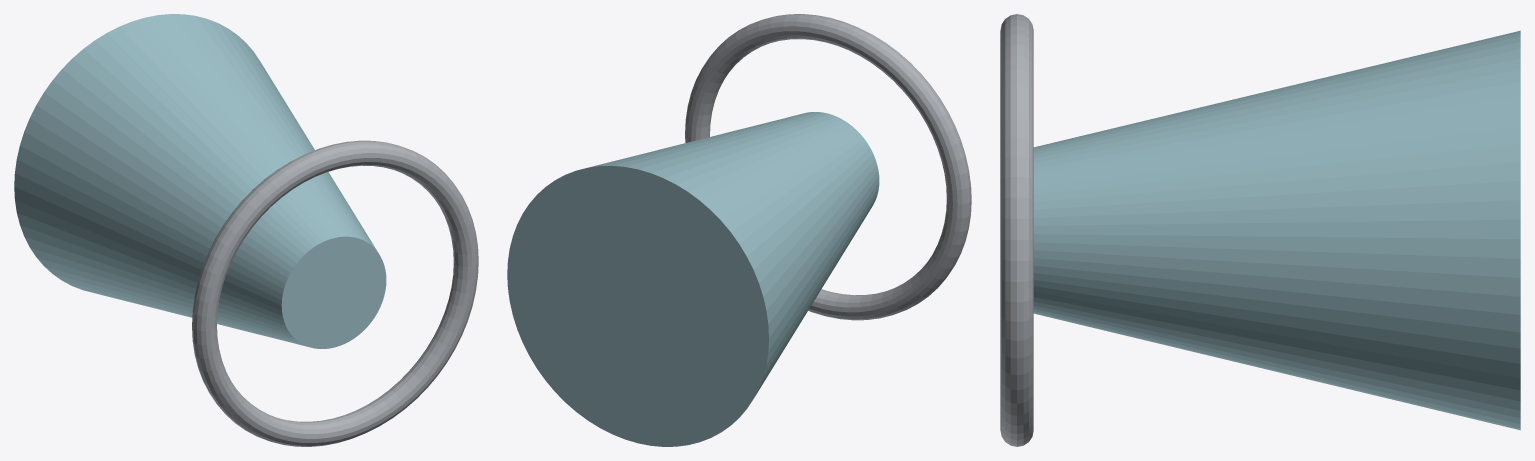
The model's file is dranmar_specimen_bag_open.glb.
The picture shows the model from 3 angles, left to right: view 1: azimuth 30°, elevation 25°; view 2: azimuth 150°, elevation 25°; view 3: azimuth 270°, elevation 25°; orthographic projection. The views are drawn at different scales.
Visible parts, largest first — view 1: bag, ring; view 2: bag, ring; view 3: bag, ring.
Part boxes in pixels (left/top/right/bottom): bag: left=14, top=14, right=386, bottom=348; ring: left=192, top=140, right=478, bottom=446; bag: left=507, top=112, right=879, bottom=446; ring: left=685, top=14, right=971, bottom=320; bag: left=1033, top=30, right=1520, bottom=430; ring: left=1000, top=14, right=1033, bottom=446.
Bounding box in the file's own units: 0.065 × 0.065 × 0.078.
